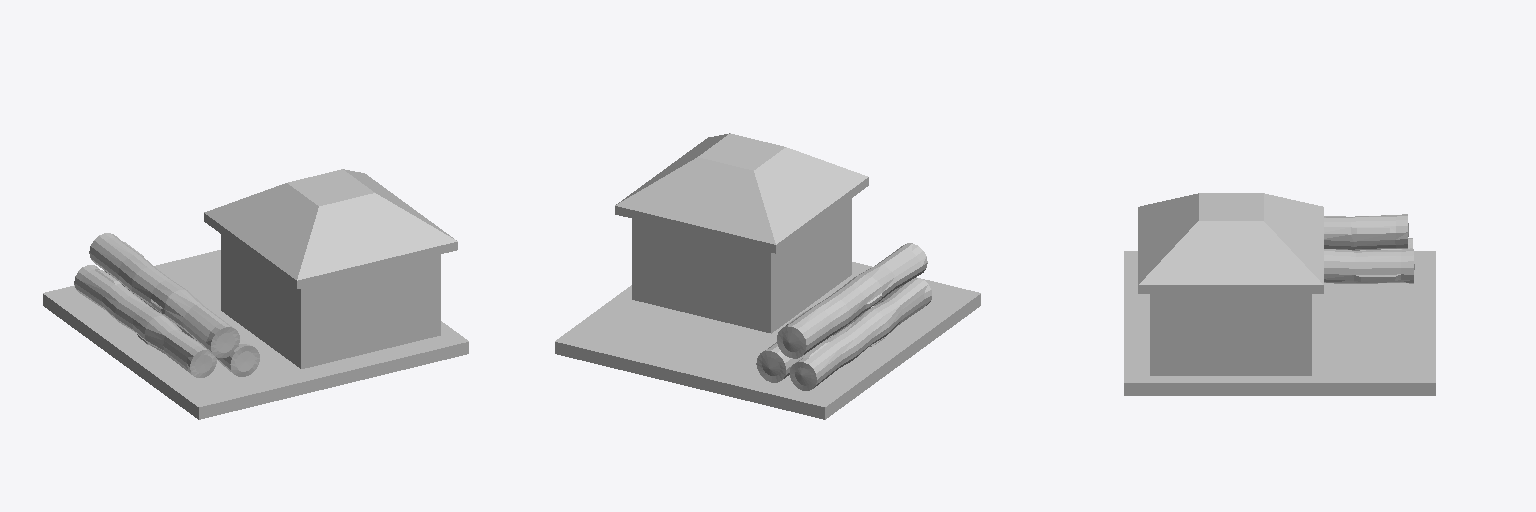
Rendered from Lumbermill.obj.
The picture shows the model from 3 angles: view 1: azimuth 30°, elevation 25°; view 2: azimuth 150°, elevation 25°; view 3: azimuth 270°, elevation 25°; orthographic projection.
Visible parts, largest first — view 1: Cube; view 2: Cube; view 3: Cube.
Part boxes in pixels (bbox=[...]): Cube: bbox=[43, 169, 468, 419]; Cube: bbox=[555, 133, 980, 419]; Cube: bbox=[1124, 193, 1435, 395].
Bounding box in the file's own units: 2 × 1.04 × 2.